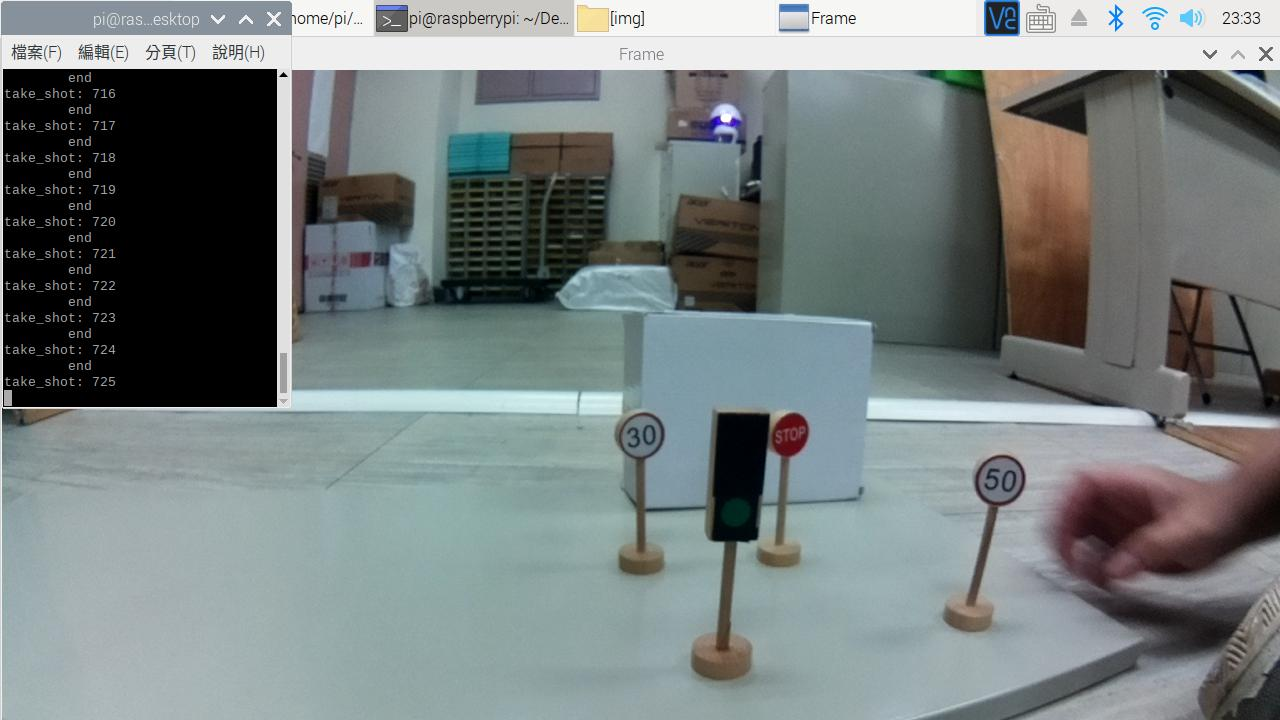Green: (709, 409, 763, 540)
Speed30: (604, 409, 672, 457)
Speed50: (972, 451, 1025, 507)
Stop: (772, 408, 809, 452)
